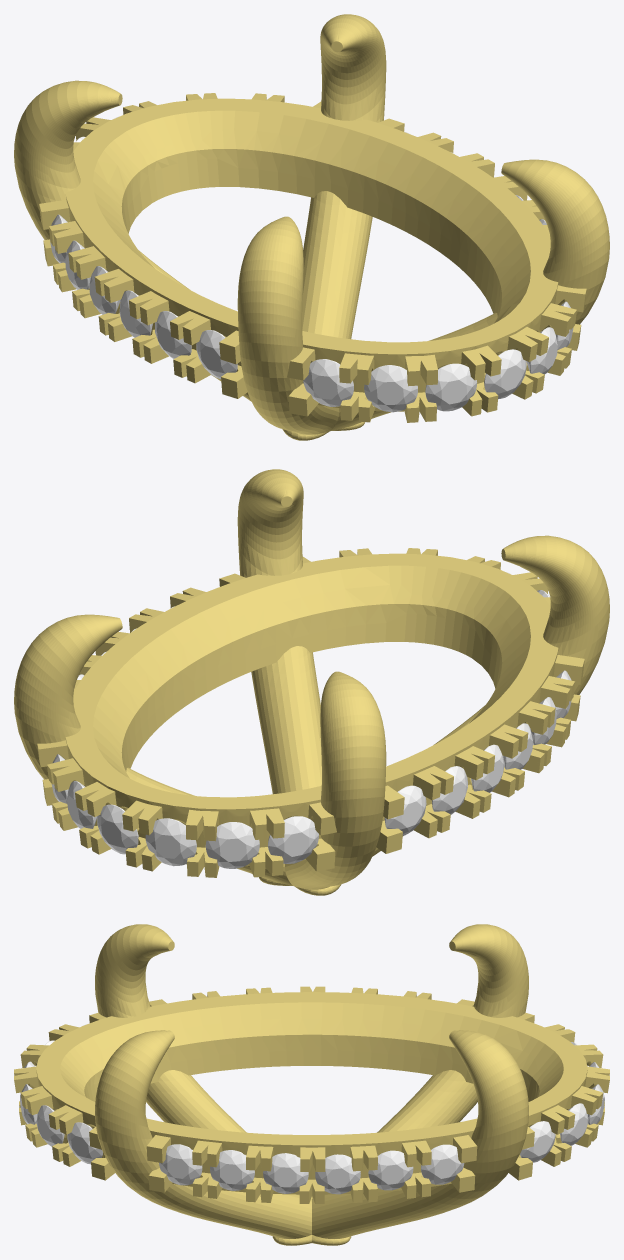
The model's file is LR1046_Head.glb.
3 renders of one model, top to bottom at view 1: azimuth 30°, elevation 25°; view 2: azimuth 150°, elevation 25°; view 3: azimuth 270°, elevation 25°, orthographic. The views are drawn at different scales.
Parts seen in each view (by area): view 1: world.001, all-diamonds.020, all-diamonds.018, all-diamonds.022, all-diamonds.016, all-diamonds.024, all-diamonds.026, all-diamonds.028, all-diamonds.014, all-diamonds.034; view 2: world.001, all-diamonds.013, all-diamonds.015, all-diamonds.012, all-diamonds.017, all-diamonds.030, all-diamonds.032, all-diamonds.034, all-diamonds.019, all-diamonds.028; view 3: world.001, all-diamonds.033, all-diamonds.031, all-diamonds.027, all-diamonds.025, all-diamonds.029, all-diamonds.023, all-diamonds.011, all-diamonds.021, all-diamonds.019, all-diamonds.014.
Part boxes in pixels (x1,y1,x2,y2): world.001: (14,14,609,440); all-diamonds.020: (364,365,417,412); all-diamonds.018: (425,363,477,411); all-diamonds.022: (303,359,353,406); all-diamonds.016: (484,349,526,399); all-diamonds.024: (196,330,237,379); all-diamonds.026: (155,311,191,358); all-diamonds.028: (119,290,152,337); all-diamonds.014: (526,327,557,374); all-diamonds.034: (89,266,120,314); world.001: (14,469,609,895); all-diamonds.013: (205,822,259,868); all-diamonds.015: (145,818,196,866); all-diamonds.012: (268,816,318,863); all-diamonds.017: (97,804,138,854); all-diamonds.030: (384,785,426,835); all-diamonds.032: (431,766,467,814); all-diamonds.034: (471,744,504,792); all-diamonds.019: (67,781,97,828); all-diamonds.028: (503,723,532,769); world.001: (14,924,609,1245); all-diamonds.033: (263,1153,308,1193); all-diamonds.031: (210,1150,254,1190); all-diamonds.027: (315,1154,360,1194); all-diamonds.025: (368,1150,413,1190); all-diamonds.029: (159,1144,202,1185); all-diamonds.023: (421,1144,464,1184); all-diamonds.011: (67,1122,102,1164); all-diamonds.021: (520,1121,555,1162); all-diamonds.019: (560,1103,588,1145); all-diamonds.014: (36,1105,64,1146).
Bounding box in the file's own units: 9.73 × 6.58 × 14.2.
